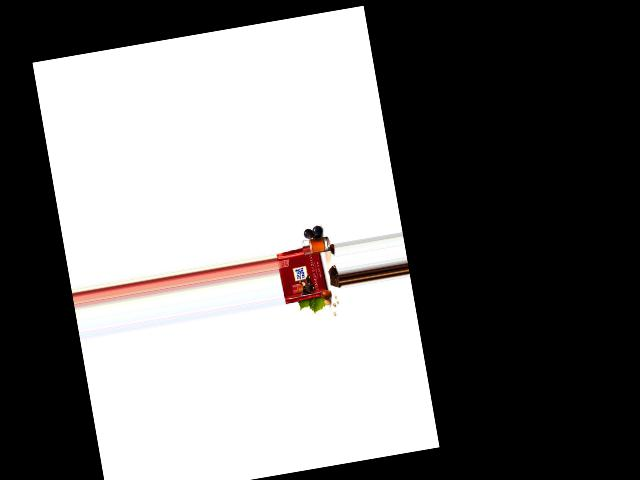chocolate: (277, 246, 328, 305)
